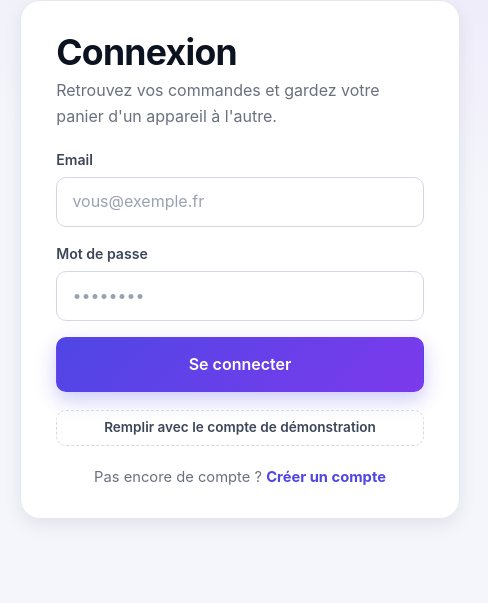
Scenario: LoginPage › affiche l'erreur d'identifiants renvoyée par l'API
This screenshot has width=488, height=603.
Type "demo@novatech.fr" into the field labelled "Email" at [240, 202], box [56,177,424,227]
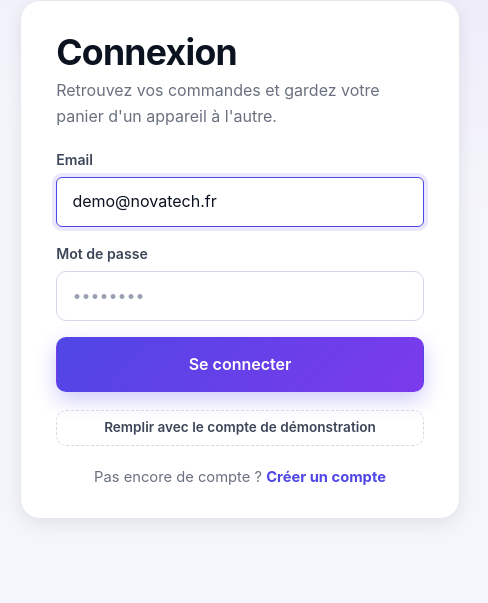
Type "FauxMotDePasse" into the password field labelled "Mot de passe" at [240, 296], box [56,271,424,321]
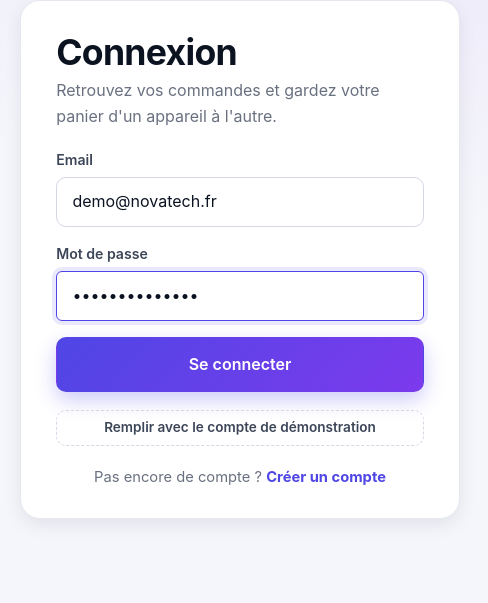
Click the button "Se connecter" at [240, 365], box [56,337,424,392]
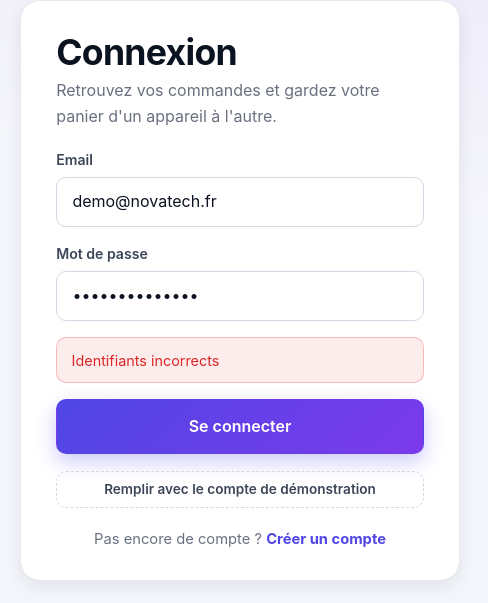
Result: the message reads "Identifiants incorrects" at [72,352,219,369]
